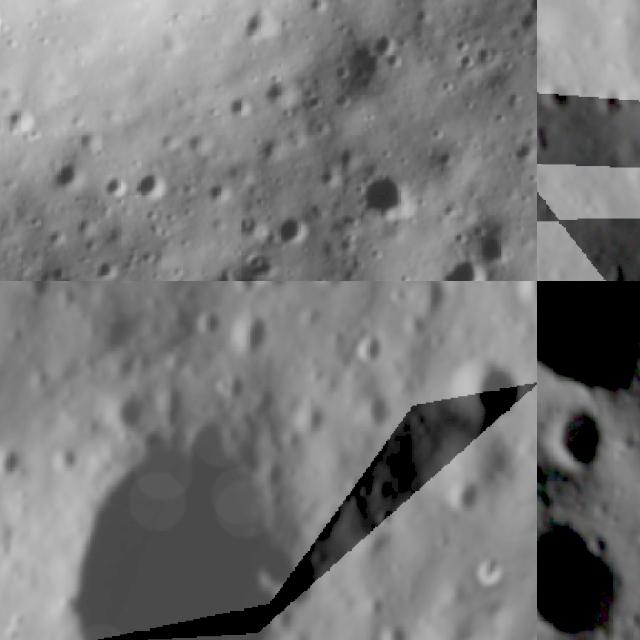crater: (10, 353, 373, 640), (537, 506, 630, 640), (537, 281, 640, 392), (443, 335, 537, 430), (538, 398, 618, 474), (220, 296, 284, 366), (436, 466, 494, 526), (106, 378, 160, 436), (349, 316, 403, 373), (355, 170, 417, 218), (355, 381, 409, 433), (537, 77, 584, 130), (363, 601, 426, 640), (186, 297, 232, 348), (39, 149, 87, 193), (237, 0, 280, 41), (0, 432, 33, 485), (131, 162, 169, 203), (259, 75, 299, 111), (0, 100, 38, 137), (435, 254, 487, 281), (13, 281, 66, 307), (274, 212, 308, 247), (507, 281, 537, 317), (505, 135, 537, 166), (221, 89, 254, 118), (312, 281, 361, 299), (100, 169, 131, 197), (367, 28, 398, 54), (449, 50, 480, 75), (473, 38, 501, 64), (113, 281, 161, 292)
